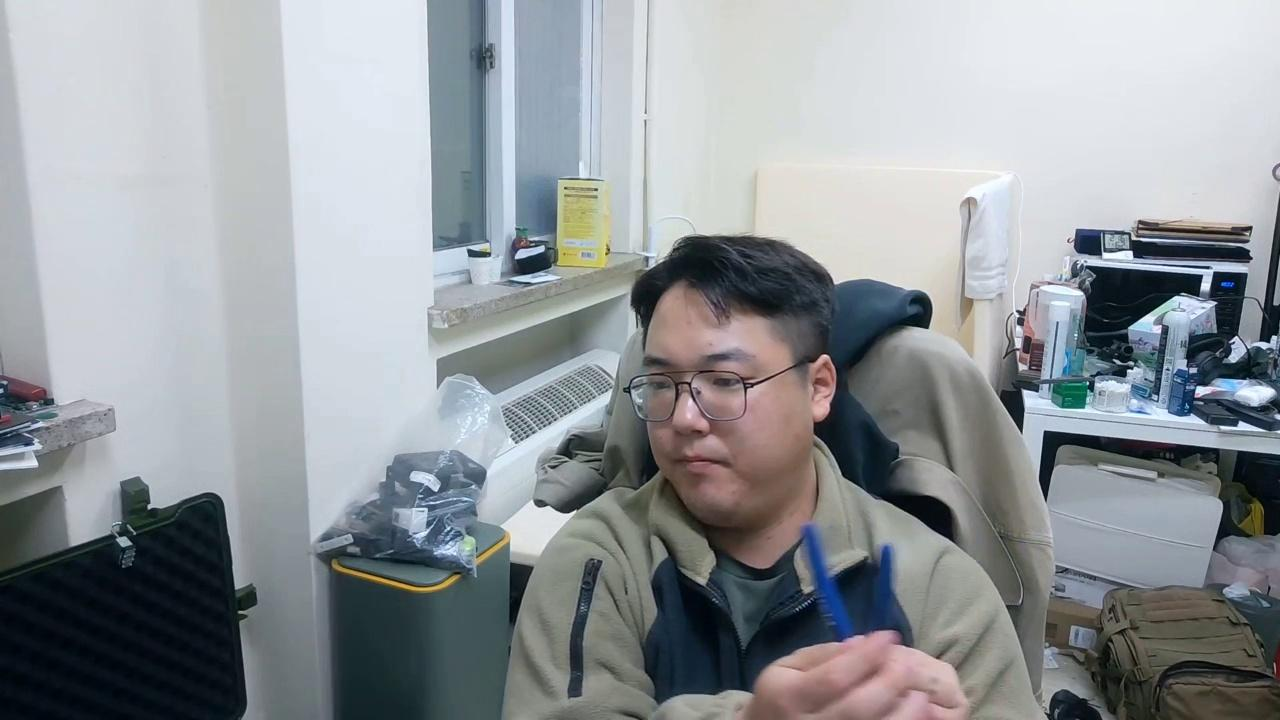blue_pliers: (798, 521, 915, 648)
